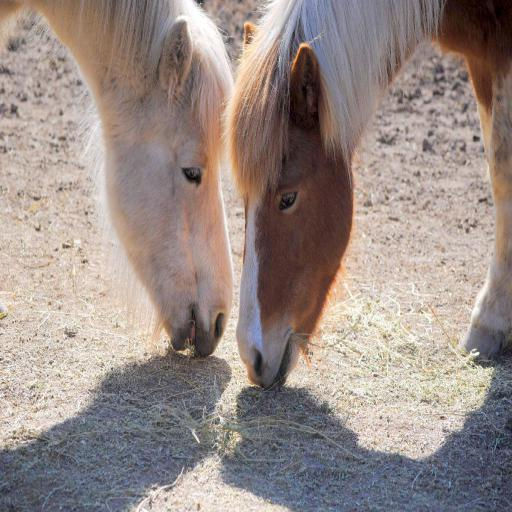horse: (220, 0, 512, 391), (0, 0, 237, 354)
